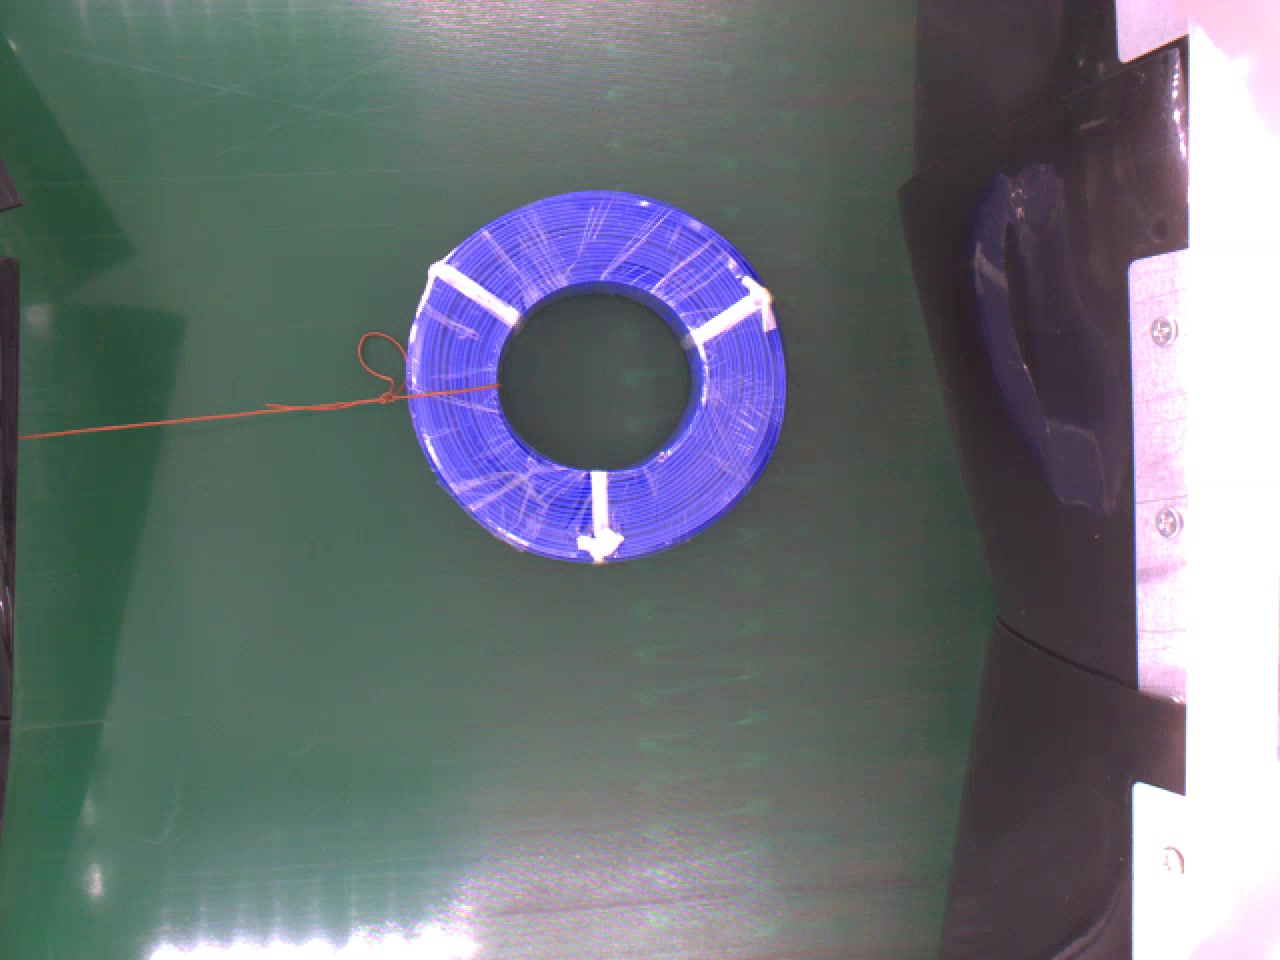blue: (401, 188, 791, 568)
